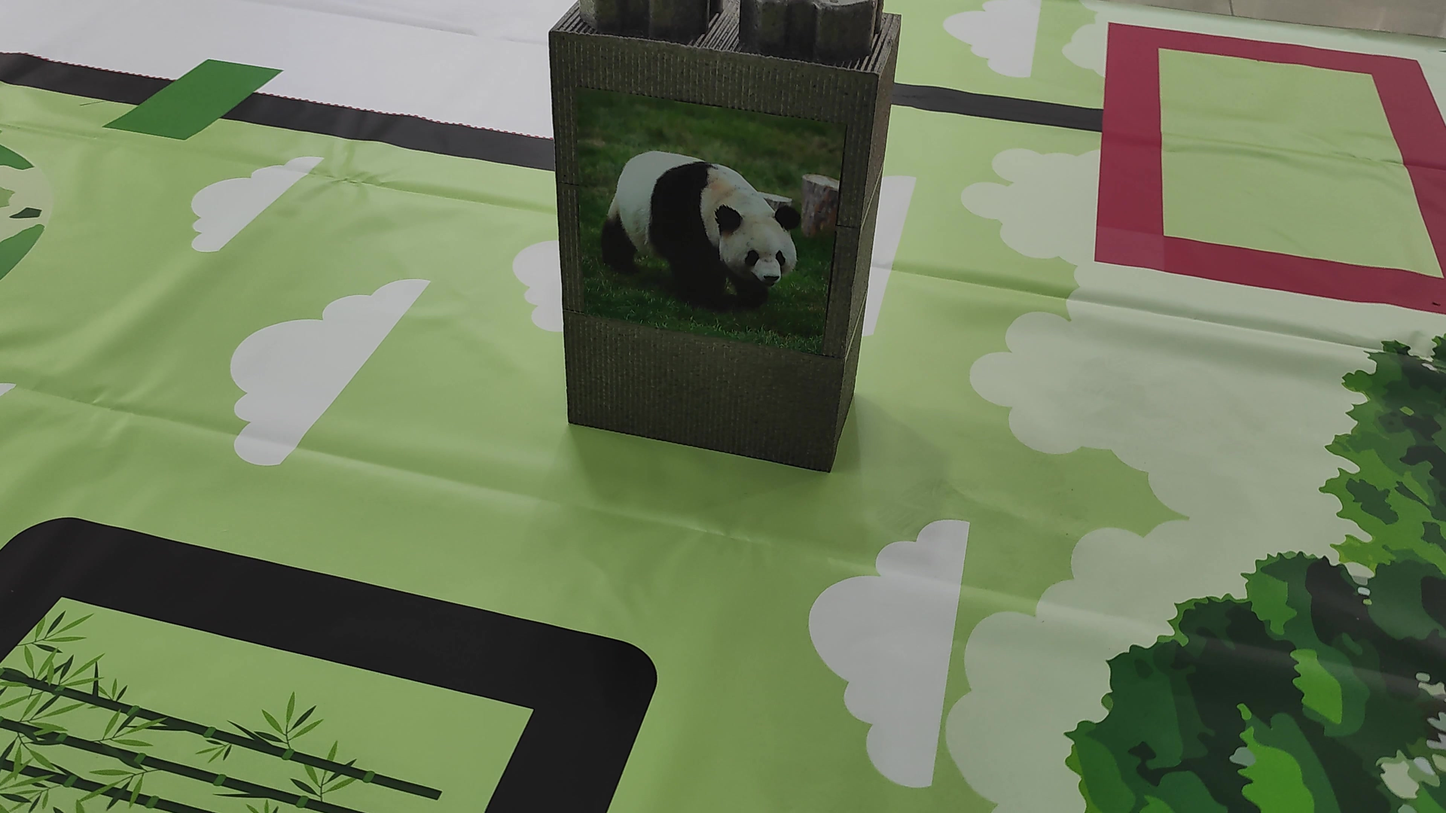panda: (574, 134, 826, 333)
